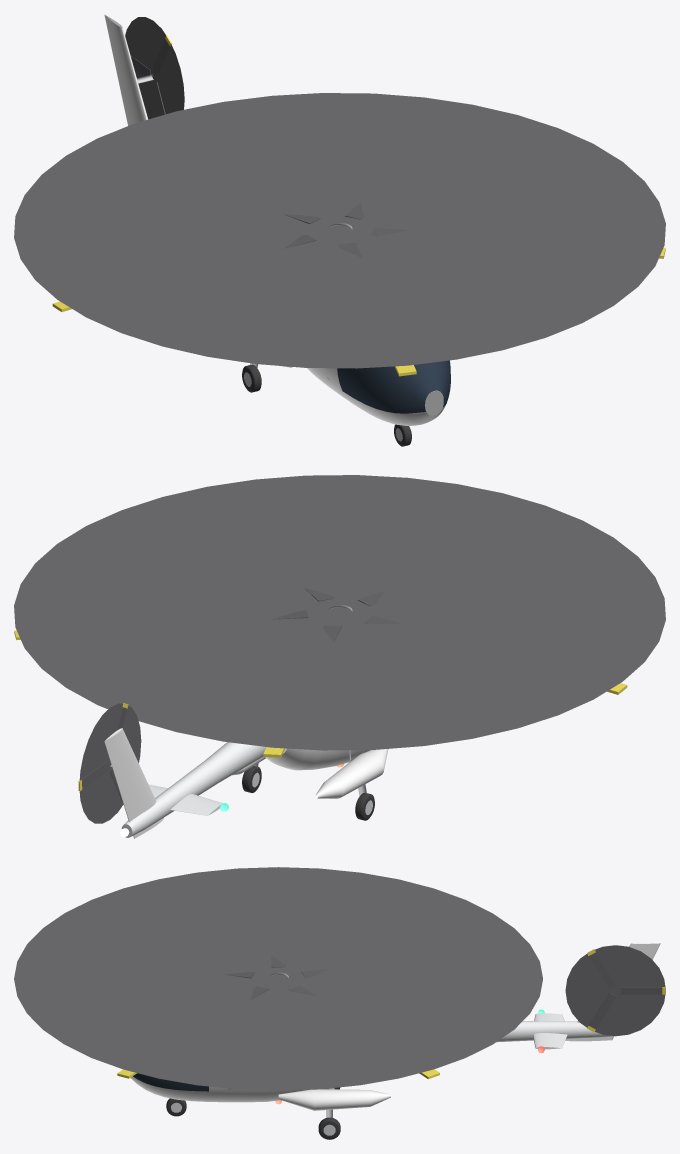
The picture shows the model from 3 angles, top to bottom: view 1: azimuth 30°, elevation 25°; view 2: azimuth 150°, elevation 25°; view 3: azimuth 270°, elevation 25°; orthographic projection. The views are drawn at different scales.
Visible parts, largest first — view 1: airframe, rotor, tail; view 2: airframe, rotor, tail; view 3: airframe, tail, rotor.
Part boxes in pixels (bbox=[...]): airframe: bbox=[14, 14, 665, 446]; rotor: bbox=[52, 202, 665, 376]; tail: bbox=[131, 35, 172, 115]; airframe: bbox=[14, 475, 665, 838]; rotor: bbox=[14, 587, 627, 757]; tail: bbox=[78, 703, 128, 804]; airframe: bbox=[14, 867, 665, 1139]; tail: bbox=[587, 949, 665, 1031]; rotor: bbox=[117, 955, 439, 1079].
Size of the model in its own units: 14.8 by 5.55 by 18.24.
